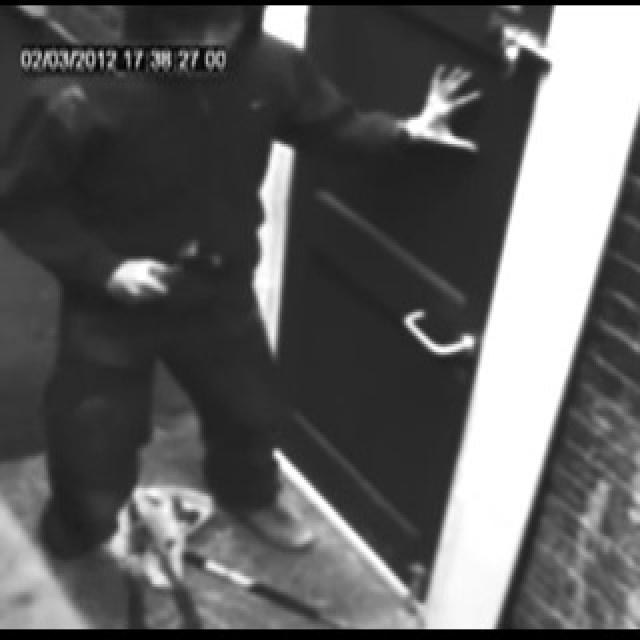thief: (120, 0, 266, 96)
